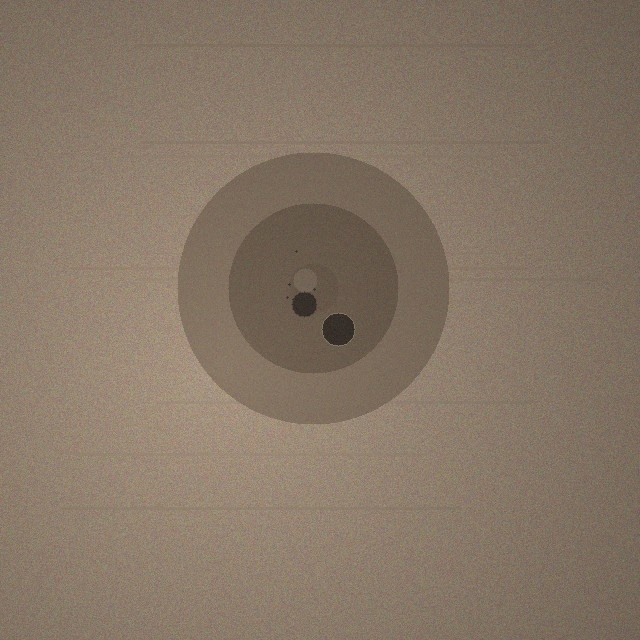shrinkage: (177, 152, 449, 424)
